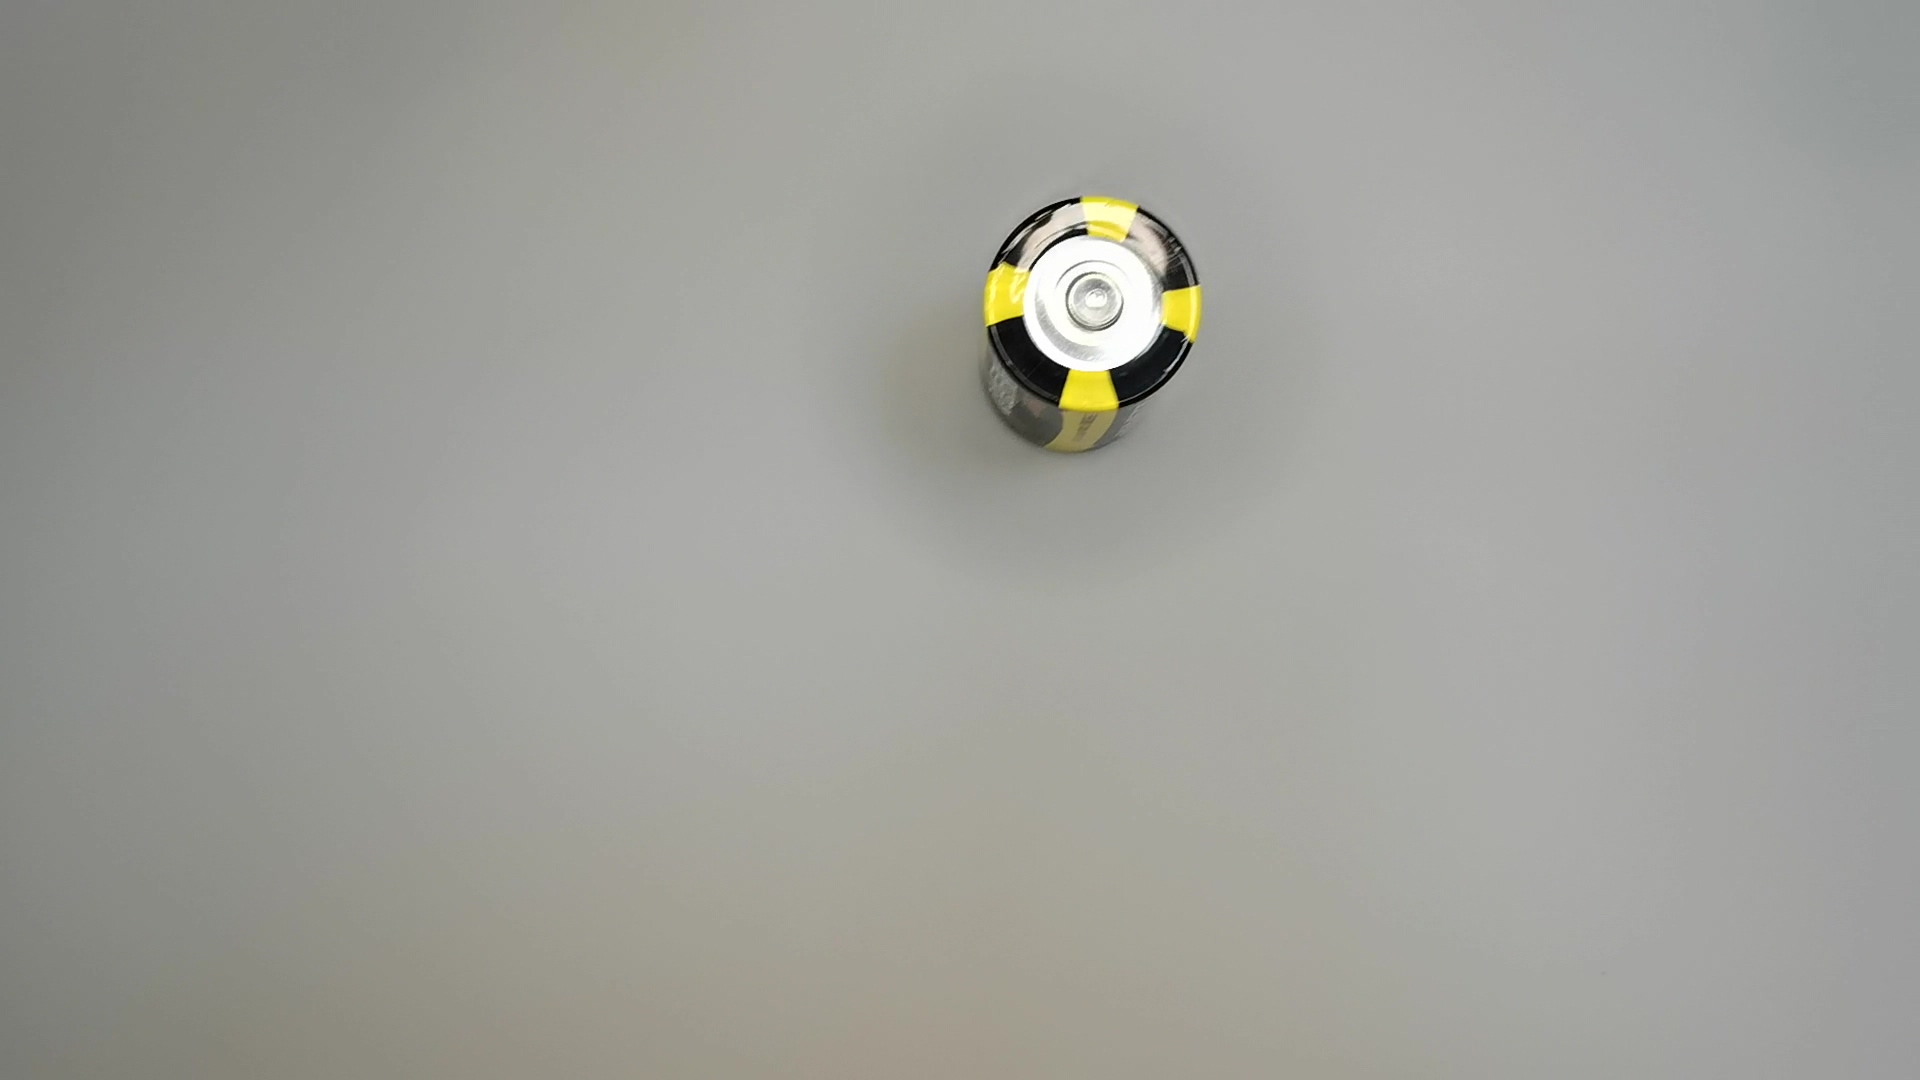battery: (975, 194, 1207, 454)
